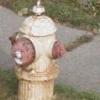Hydrant: (7, 11, 78, 100)
